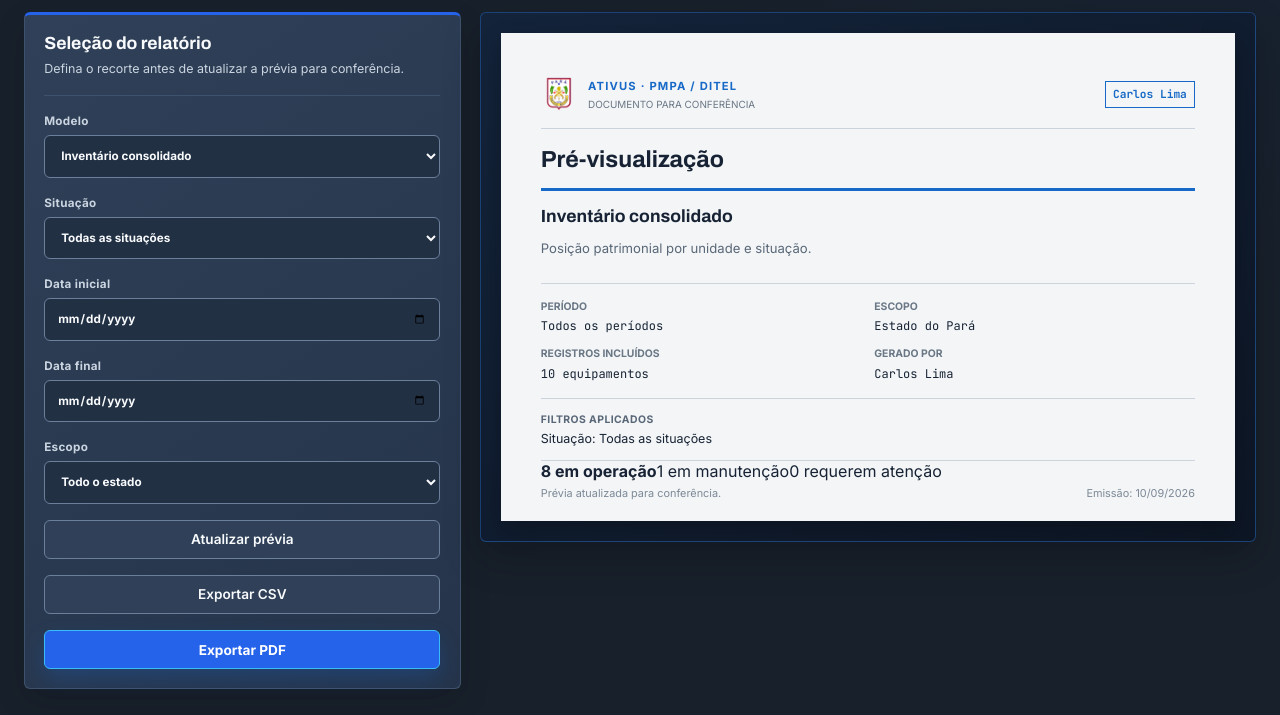
Test: loads the authenticated reports preview and exports PDF through the API
(page scrolled)
Expected: the heading "Pré-visualização" is shown, x1=541 y1=147 x2=724 y2=172
Expected: the text "Filtros aplicados" is shown, x1=541 y1=413 x2=654 y2=426
What coordinates should you click on to do the following:
click the button "Exportar PDF"
I would click on:
 (242, 650)
Its box is x1=44 y1=630 x2=440 y2=669.
(page scrolled)
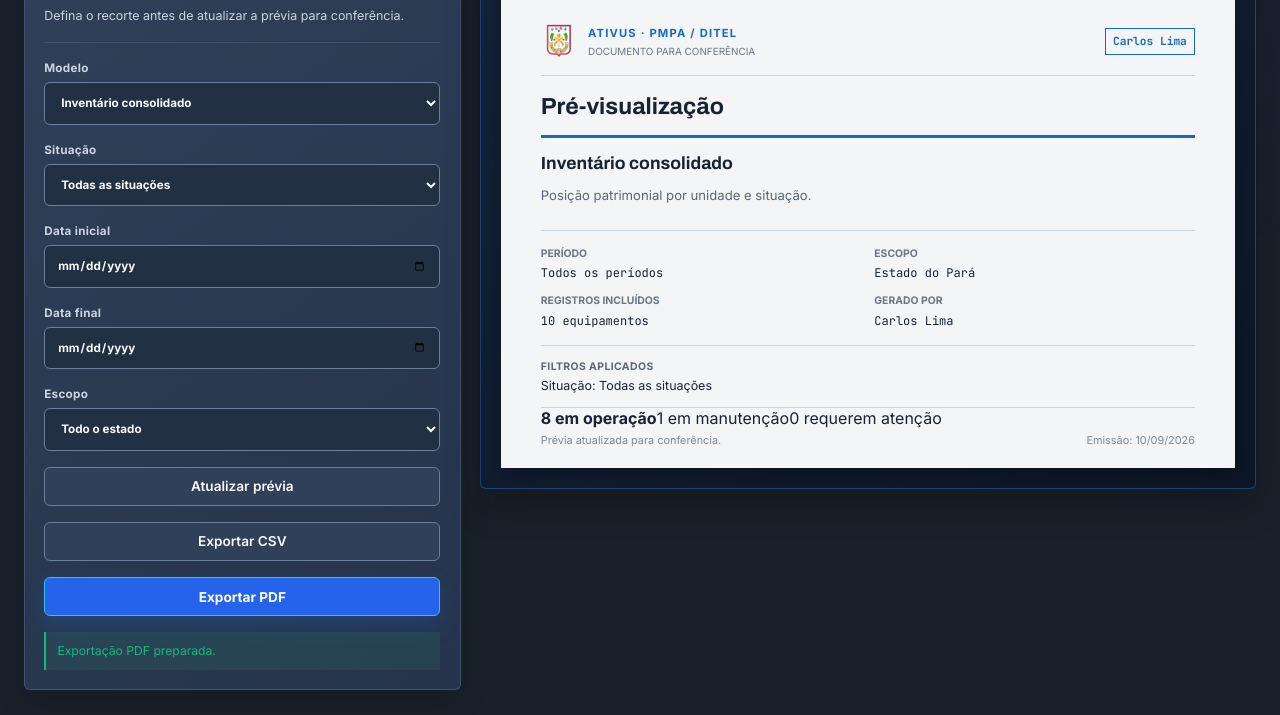
Expected: the message shows "Exportação PDF preparada", x1=57 y1=643 x2=216 y2=658
